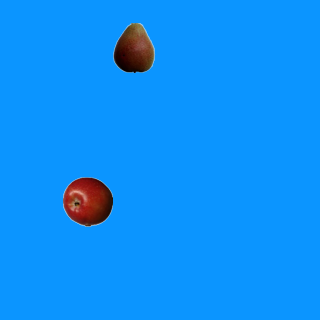Apple Braeburn: (62, 176, 112, 226)
Pear Forelle: (108, 22, 158, 72)
